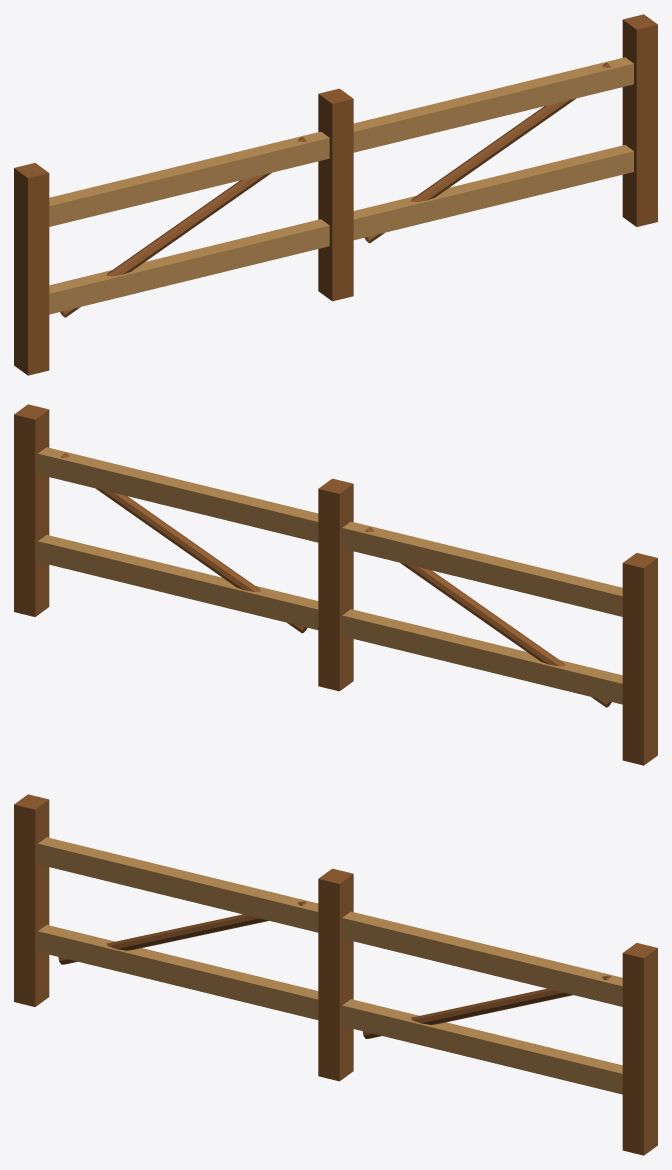
The model's file is timber_fence_4m.glb.
3 renders of one model, top to bottom at view 1: azimuth 30°, elevation 25°; view 2: azimuth 150°, elevation 25°; view 3: azimuth 330°, elevation 25°, orthographic.
Parts seen in each view (by area): view 1: timber_fence_4m_pc; view 2: timber_fence_4m_pc; view 3: timber_fence_4m_pc.
Boxes of the visible parts, left/top/right/bottom form: timber_fence_4m_pc: left=14, top=14, right=657, bottom=375; timber_fence_4m_pc: left=14, top=404, right=657, bottom=765; timber_fence_4m_pc: left=14, top=794, right=657, bottom=1155.
Bounding box in the file's own units: 4.14 × 1.24 × 0.16.
